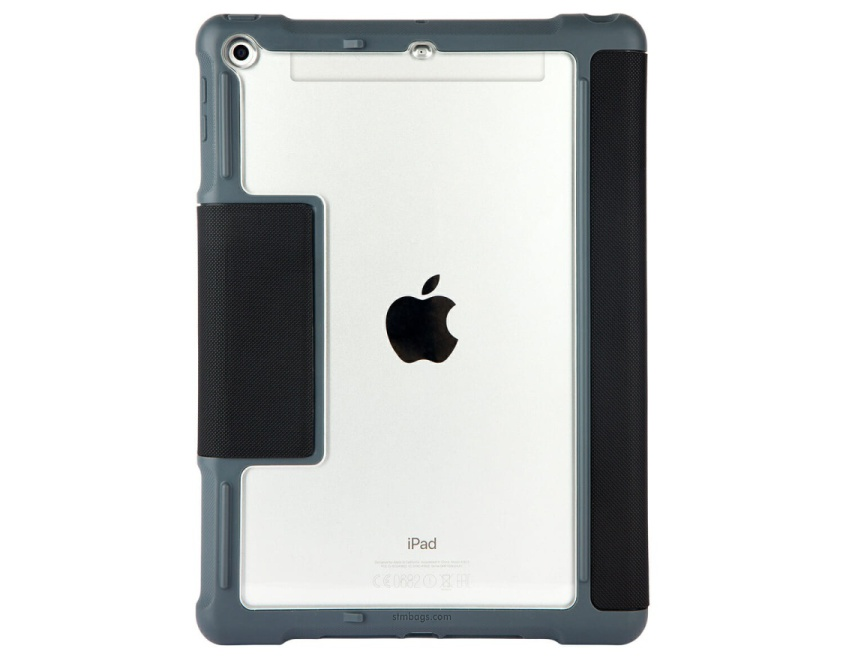apple: (369, 264, 495, 389)
